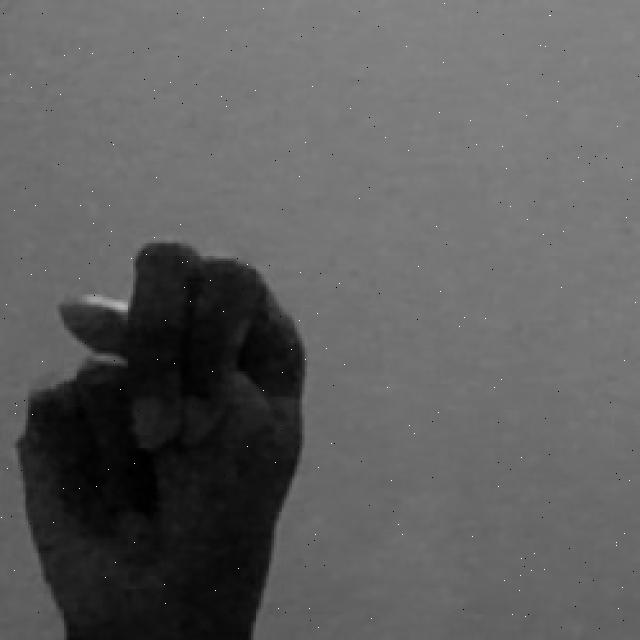N: (7, 230, 304, 640)
